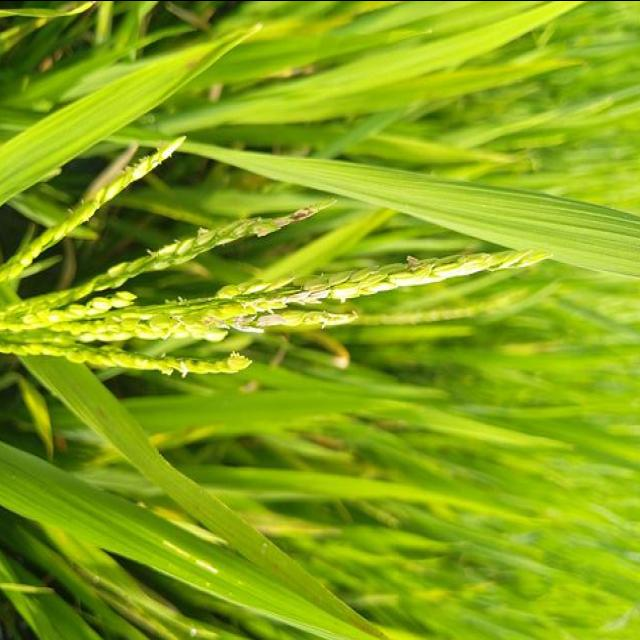Panicle Blight: (167, 248, 551, 342), (243, 205, 319, 235)
